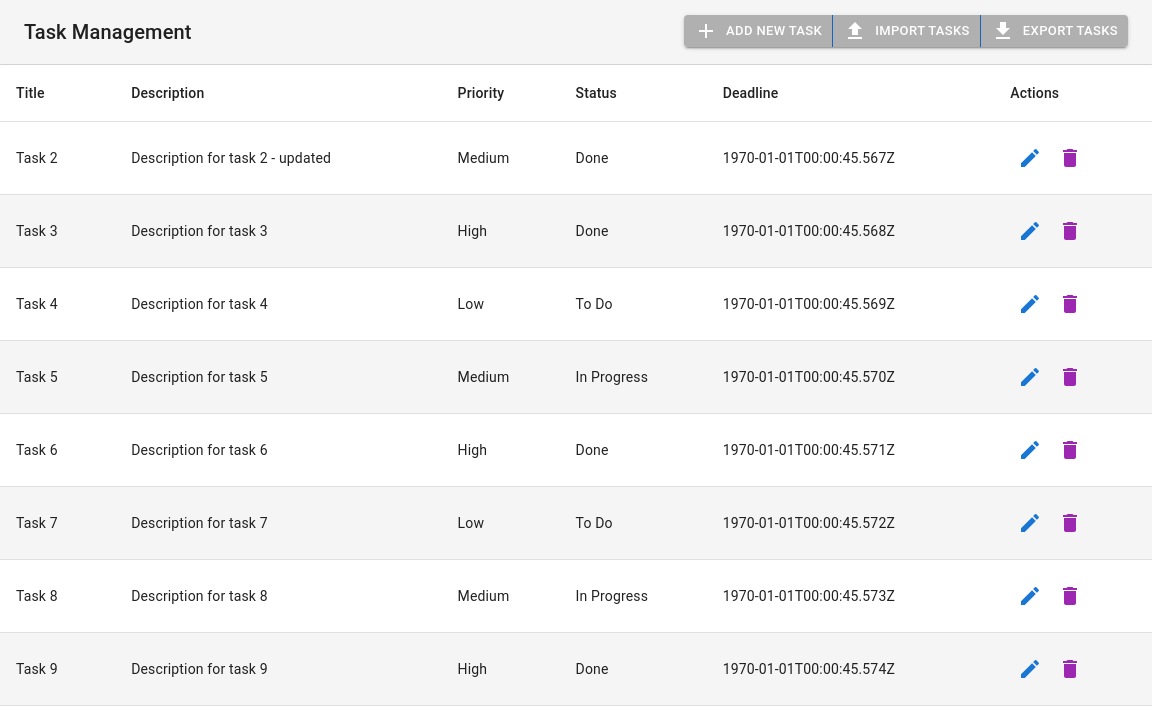
Test: TaskList Component › opens new task modal on button click
Click the button "Add New Task" at [759, 31], box left=684, top=15, right=833, bottom=47
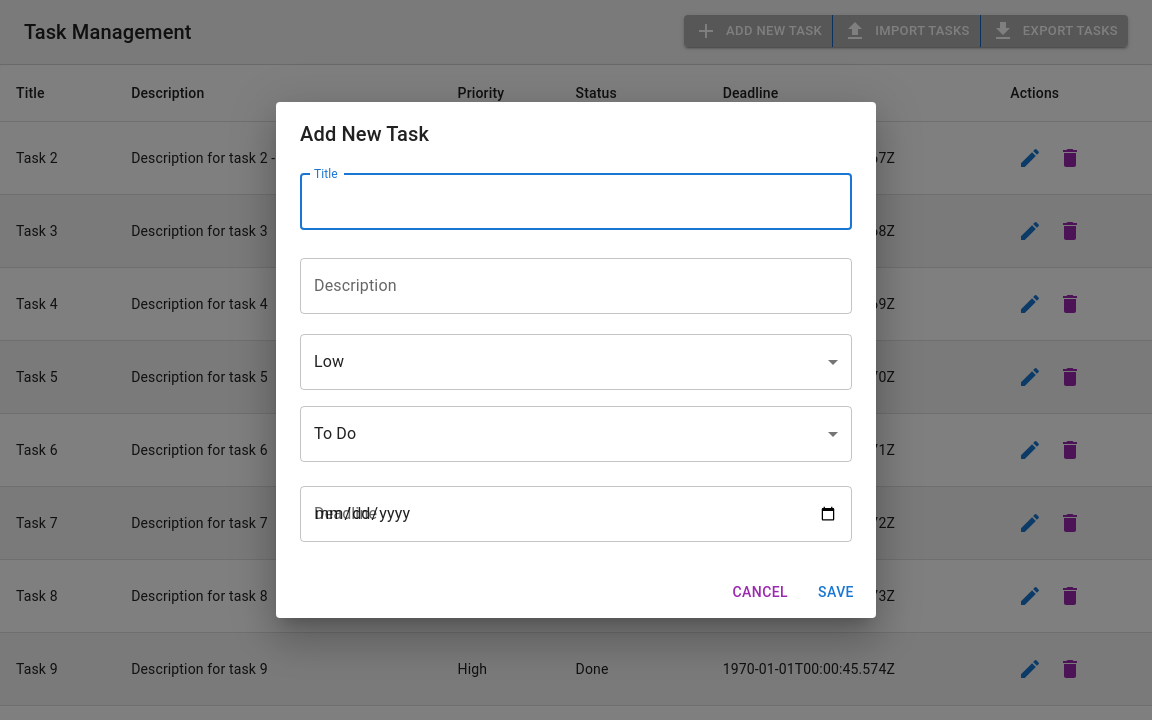
expect the heading "Add New Task" is shown: met, box left=300, top=122, right=429, bottom=146
expect the field labelled "Title" is shown: met, box left=300, top=174, right=852, bottom=230
